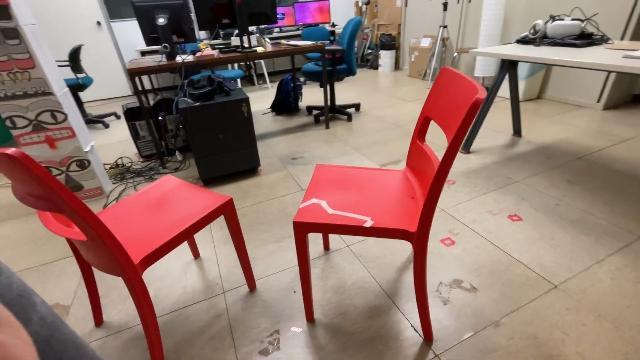Chair: (0, 142, 262, 360), (290, 62, 490, 347)
Lamp: (473, 0, 509, 94)
Stool: (448, 46, 478, 78)
